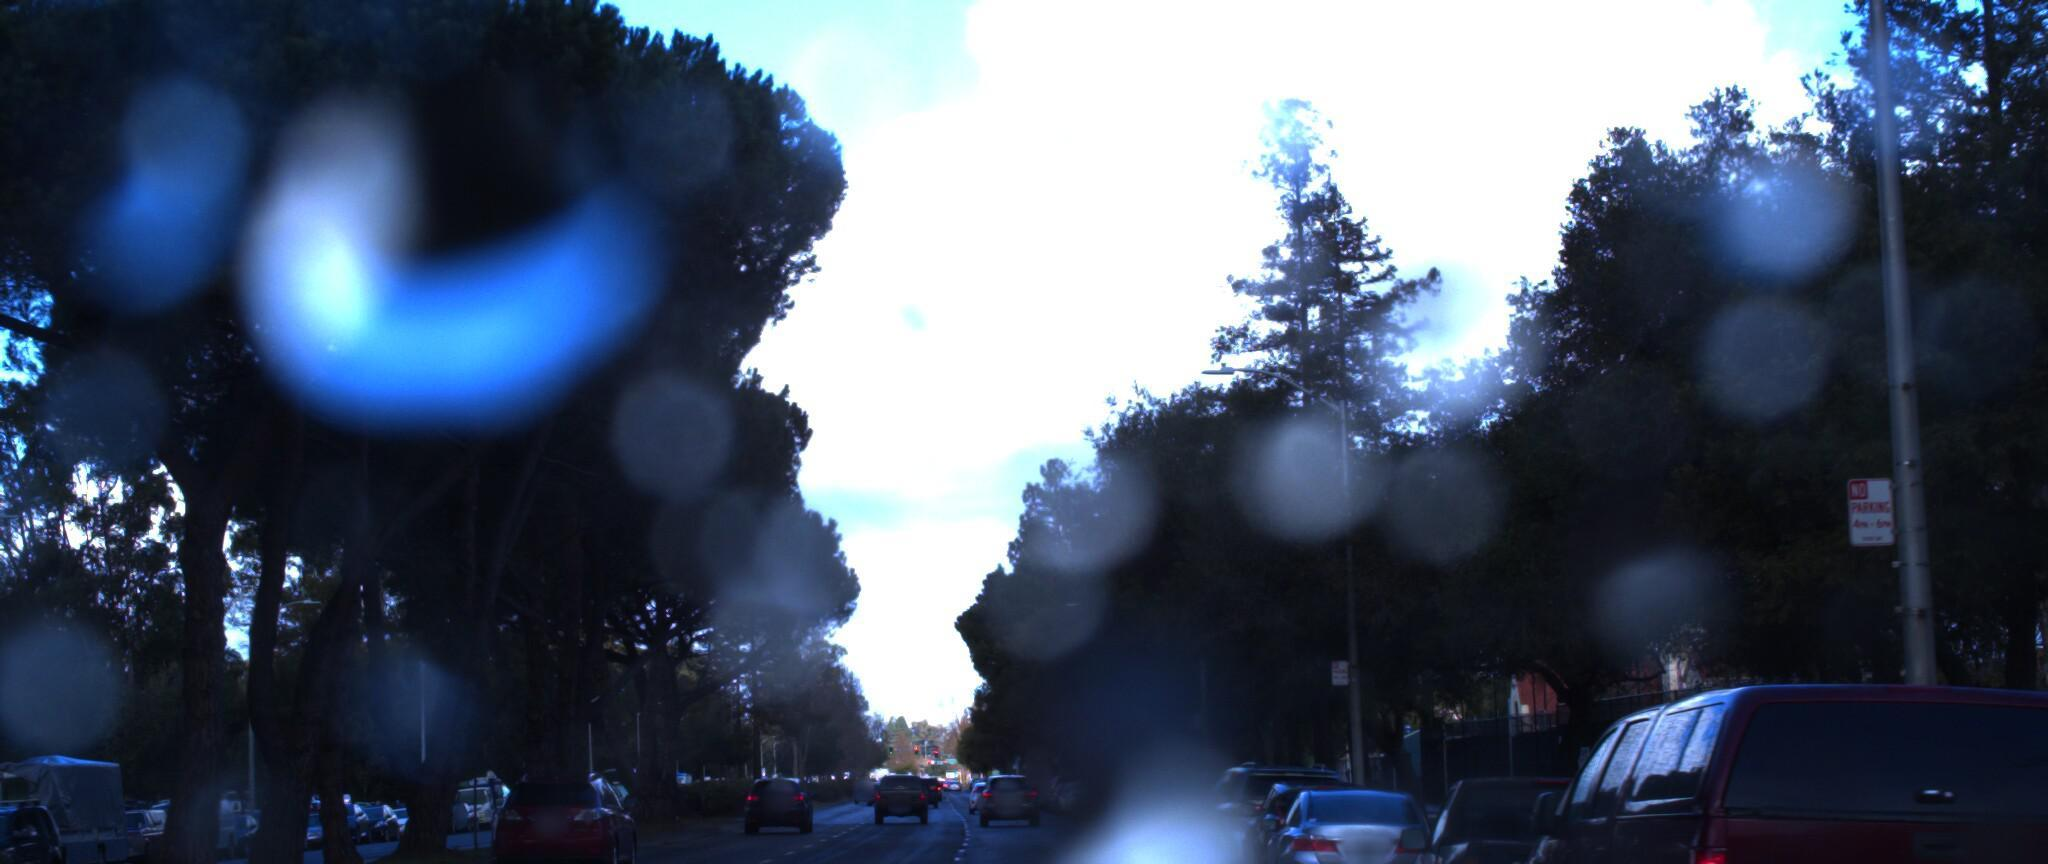car: (1502, 650, 2048, 864), (1384, 756, 1745, 864), (485, 764, 653, 864), (1221, 765, 1391, 864), (1255, 783, 1460, 864), (1182, 762, 1334, 864)
other_vehicle: (0, 754, 150, 864), (0, 756, 22, 864)
